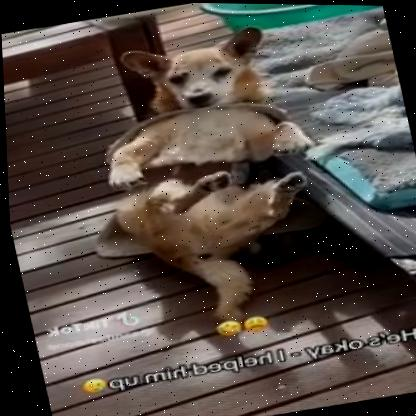dog: (40, 18, 341, 350)
